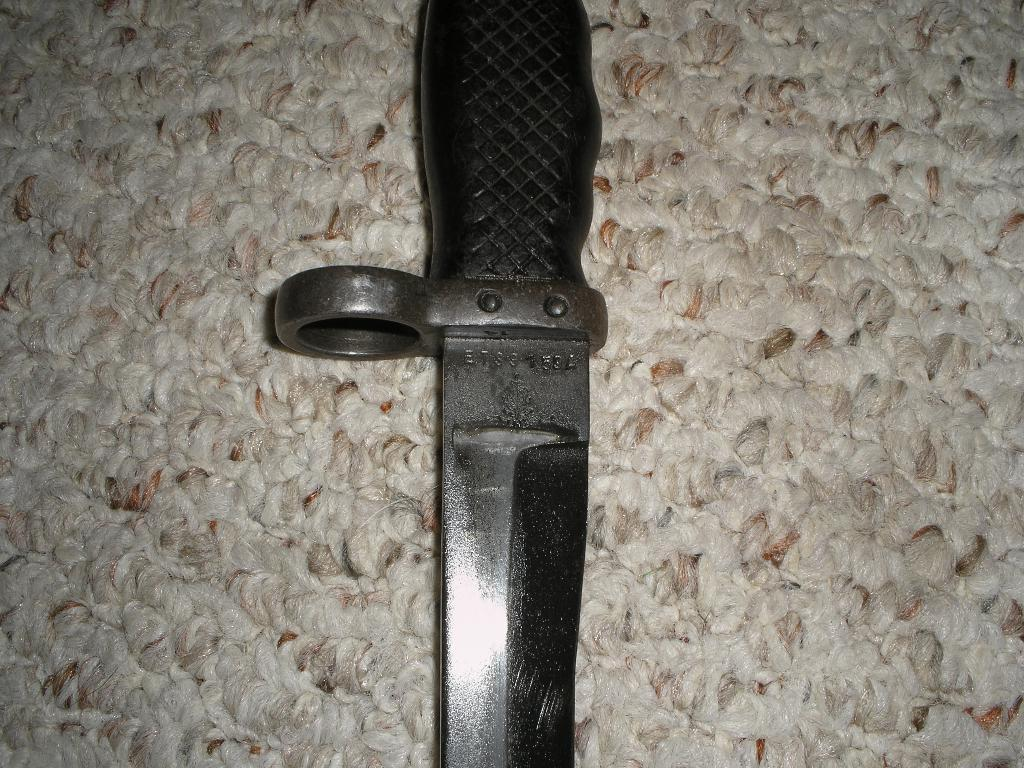Knife: (276, 3, 609, 767)
